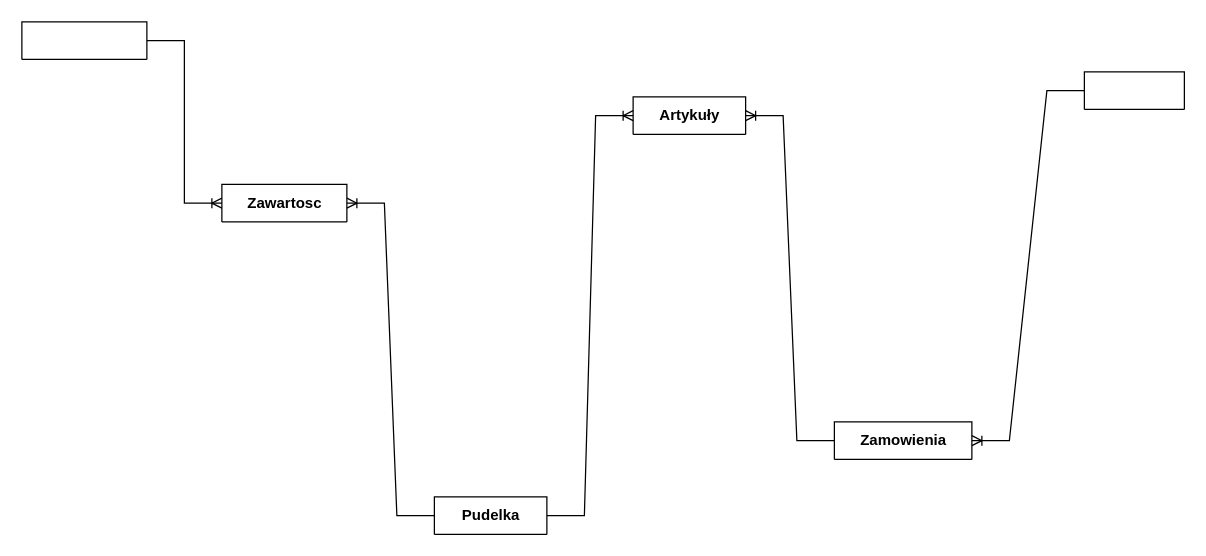
The diagram is 1206 pixels wide and 556 high, and some of its shapes have lost their labels. The box of each missing label's shape, as (x1, y1, x2, y2) in pixels:
Czekoladki: (21, 21, 147, 59)
Klienci: (1083, 71, 1184, 109)
